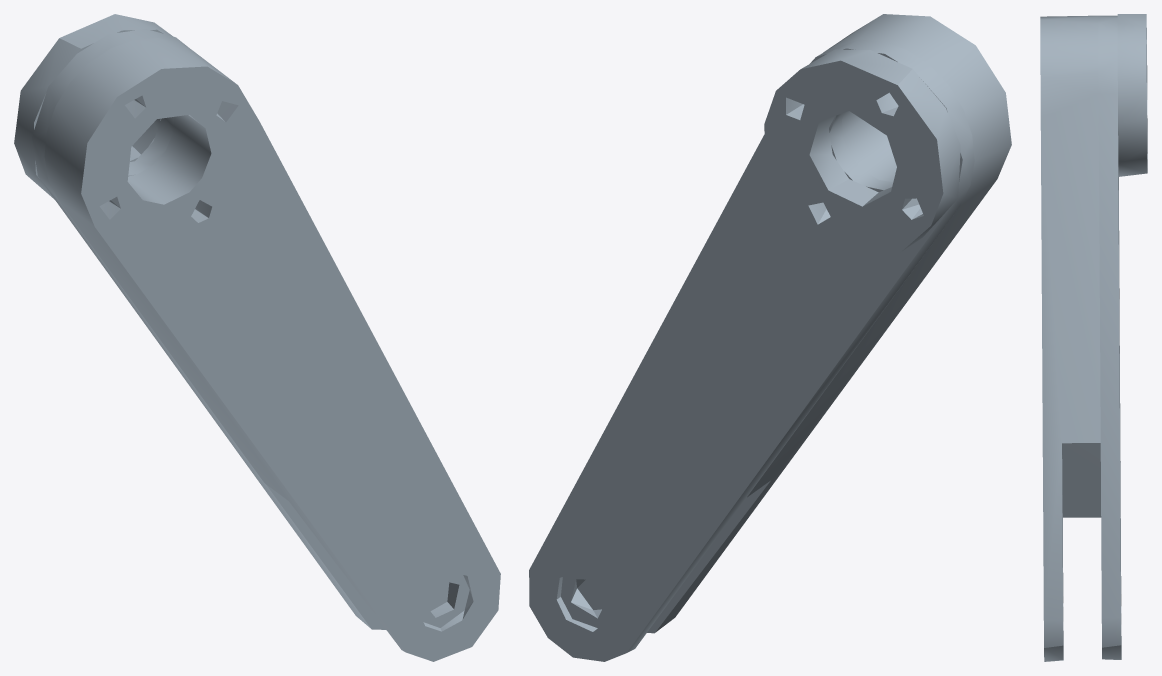
The picture shows the model from 3 angles, left to right: view 1: azimuth 30°, elevation 25°; view 2: azimuth 150°, elevation 25°; view 3: azimuth 270°, elevation 25°; orthographic projection. The views are drawn at different scales.
Visible parts, largest first — view 1: tmp_export_br_link4; view 2: tmp_export_br_link4; view 3: tmp_export_br_link4.
Boxes of the visible parts, x1,y1,x2,y2 form: tmp_export_br_link4: [14, 14, 500, 661]; tmp_export_br_link4: [529, 14, 1011, 661]; tmp_export_br_link4: [1040, 14, 1147, 661].
Size of the model in its own units: 0.0601 by 0.0167 by 0.0901.
